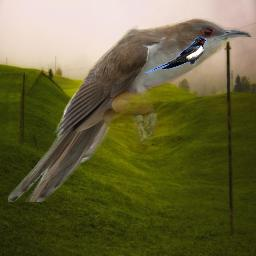Cuckoo: (8, 18, 252, 202)
Swallow: (144, 37, 207, 74)
